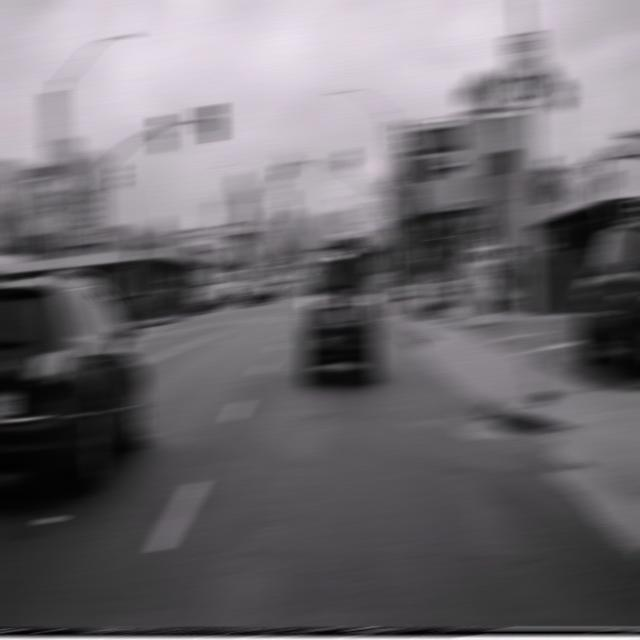speedLimit30: (502, 30, 546, 111)
